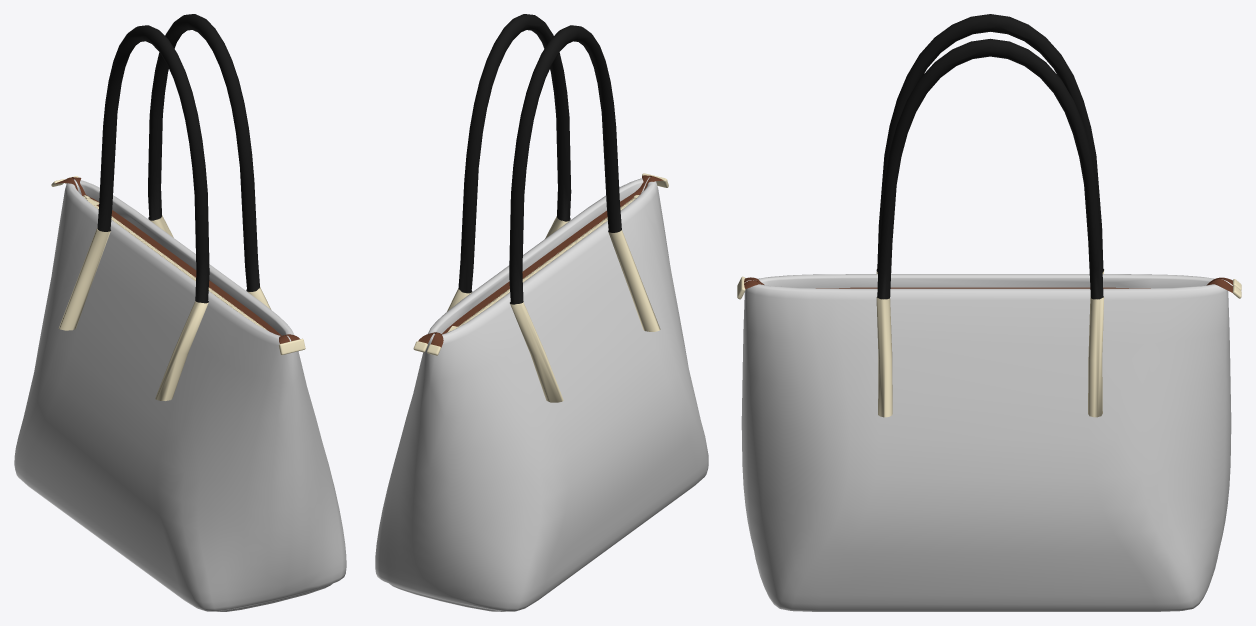
The model's file is HandbagSimpler.fbx.
The picture shows the model from 3 angles, left to right: view 1: azimuth 30°, elevation 25°; view 2: azimuth 150°, elevation 25°; view 3: azimuth 270°, elevation 25°; orthographic projection. The views are drawn at different scales.
Visible parts, largest first — view 1: Bag.Cognac, Bag.Handles, Zipper, Zipper.Applied; view 2: Bag.Cognac, Bag.Handles, Zipper, Zipper.Applied; view 3: Bag.Cognac, Bag.Handles, Zipper.
Boxes of the visible parts, x1,y1,x2,y2 form: Bag.Cognac: (14, 179, 346, 611); Bag.Handles: (59, 14, 271, 400); Zipper: (55, 177, 299, 343); Zipper.Applied: (94, 205, 268, 331); Bag.Cognac: (375, 177, 708, 611); Bag.Handles: (447, 14, 660, 402); Zipper: (418, 175, 663, 347); Zipper.Applied: (457, 198, 635, 326); Bag.Cognac: (741, 274, 1231, 611); Bag.Handles: (876, 14, 1104, 417); Zipper: (744, 277, 1233, 292).
Size of the model in its own units: 14.99 by 44.28 by 36.78.
